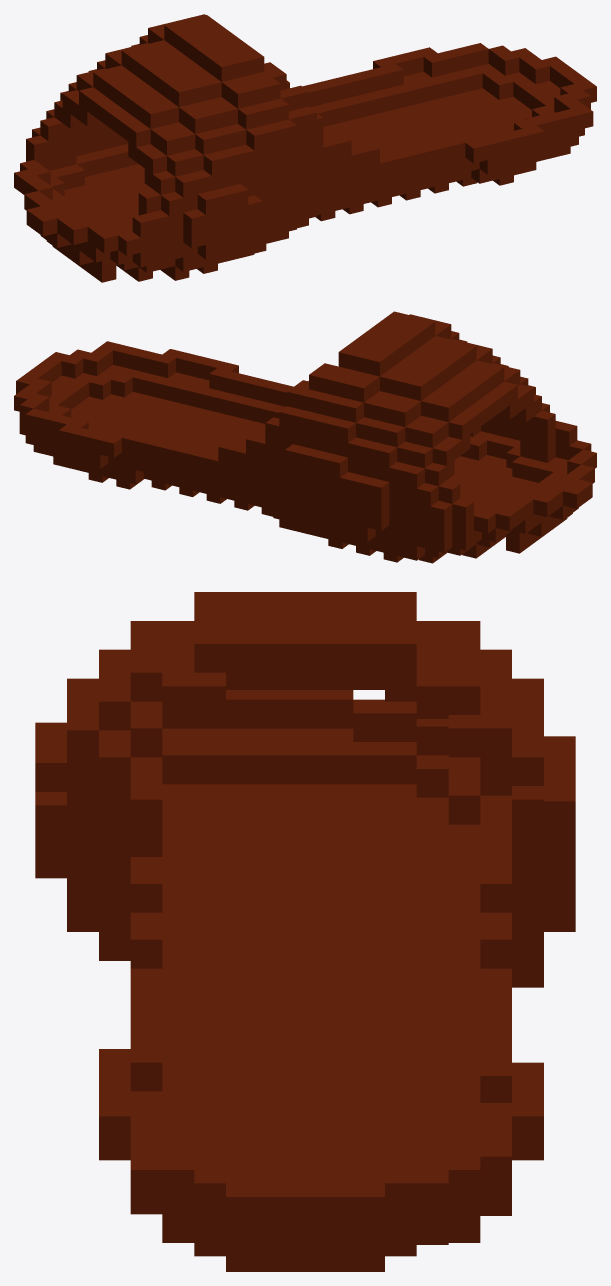
The model's file is Flax.fbx.
The picture shows the model from 3 angles, top to bottom: view 1: azimuth 30°, elevation 25°; view 2: azimuth 150°, elevation 25°; view 3: azimuth 270°, elevation 25°; orthographic projection. The views are drawn at different scales.
Visible parts, largest first — view 1: Untitled; view 2: Untitled; view 3: Untitled.
Boxes of the visible parts, x1,y1,x2,y2 form: Untitled: [14, 14, 596, 282]; Untitled: [14, 311, 596, 563]; Untitled: [35, 592, 575, 1271].
Bounding box in the file's own units: 390 × 120 × 170.
